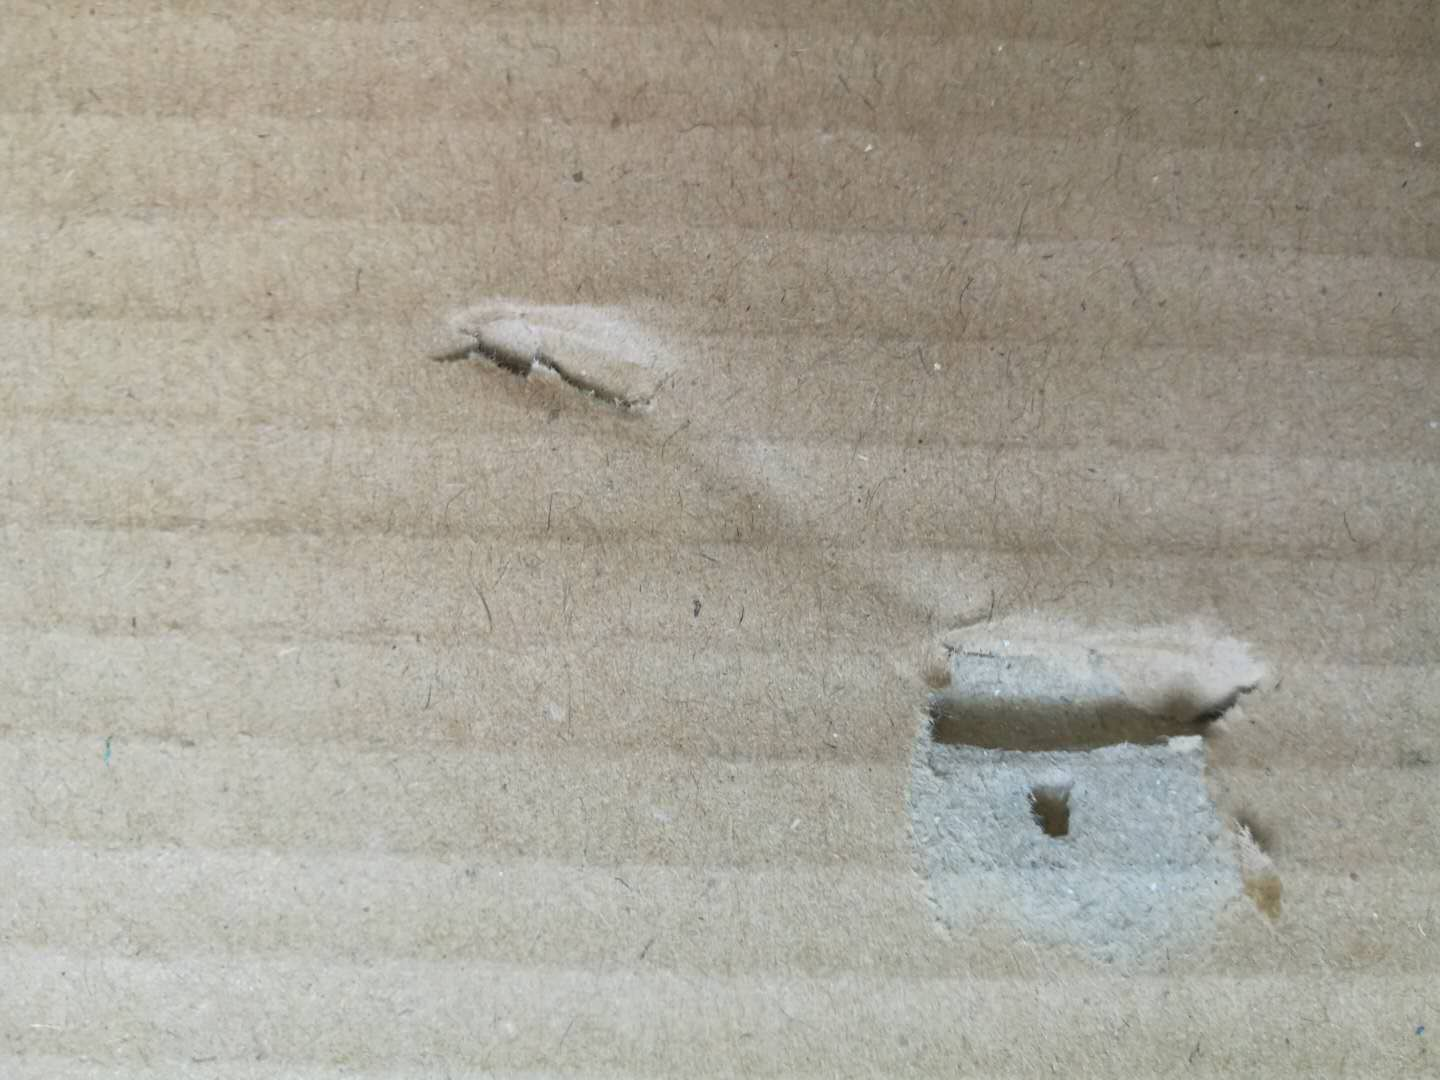defect: (855, 567, 1331, 1006), (413, 267, 732, 463)
